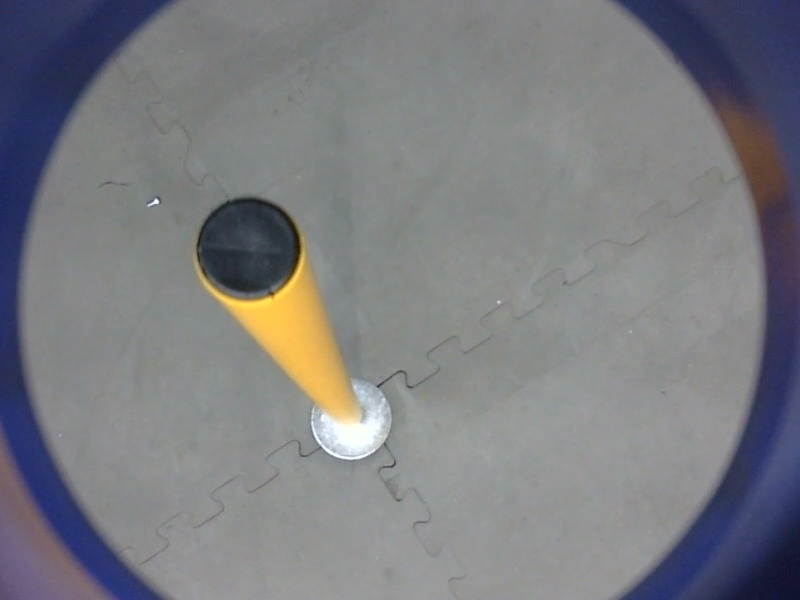tip: (184, 189, 314, 315)
